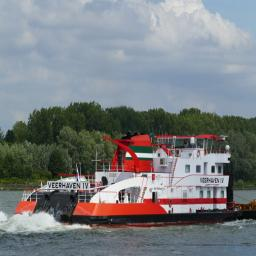tugboat: (13, 126, 248, 235)
